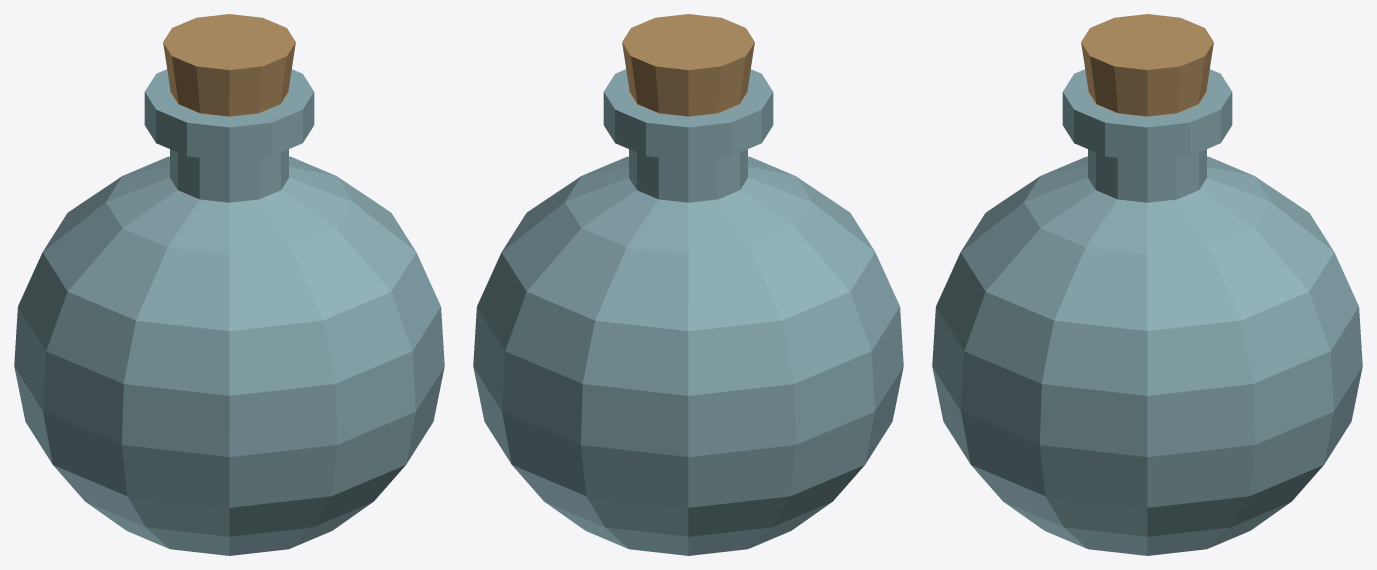
Rendered from Pocion.obj.
The picture shows the model from 3 angles, left to right: view 1: azimuth 30°, elevation 25°; view 2: azimuth 150°, elevation 25°; view 3: azimuth 270°, elevation 25°; orthographic projection.
Visible parts, largest first — view 1: Cylinder.006; view 2: Cylinder.006; view 3: Cylinder.006.
Part boxes in pixels (x1,y1,x2,y2): Cylinder.006: (14, 14, 444, 555); Cylinder.006: (473, 14, 903, 555); Cylinder.006: (932, 14, 1362, 555).
Size of the model in its own units: 0.2174 by 0.2767 by 0.2174.
Materials: 1 (1 with a texture image).
